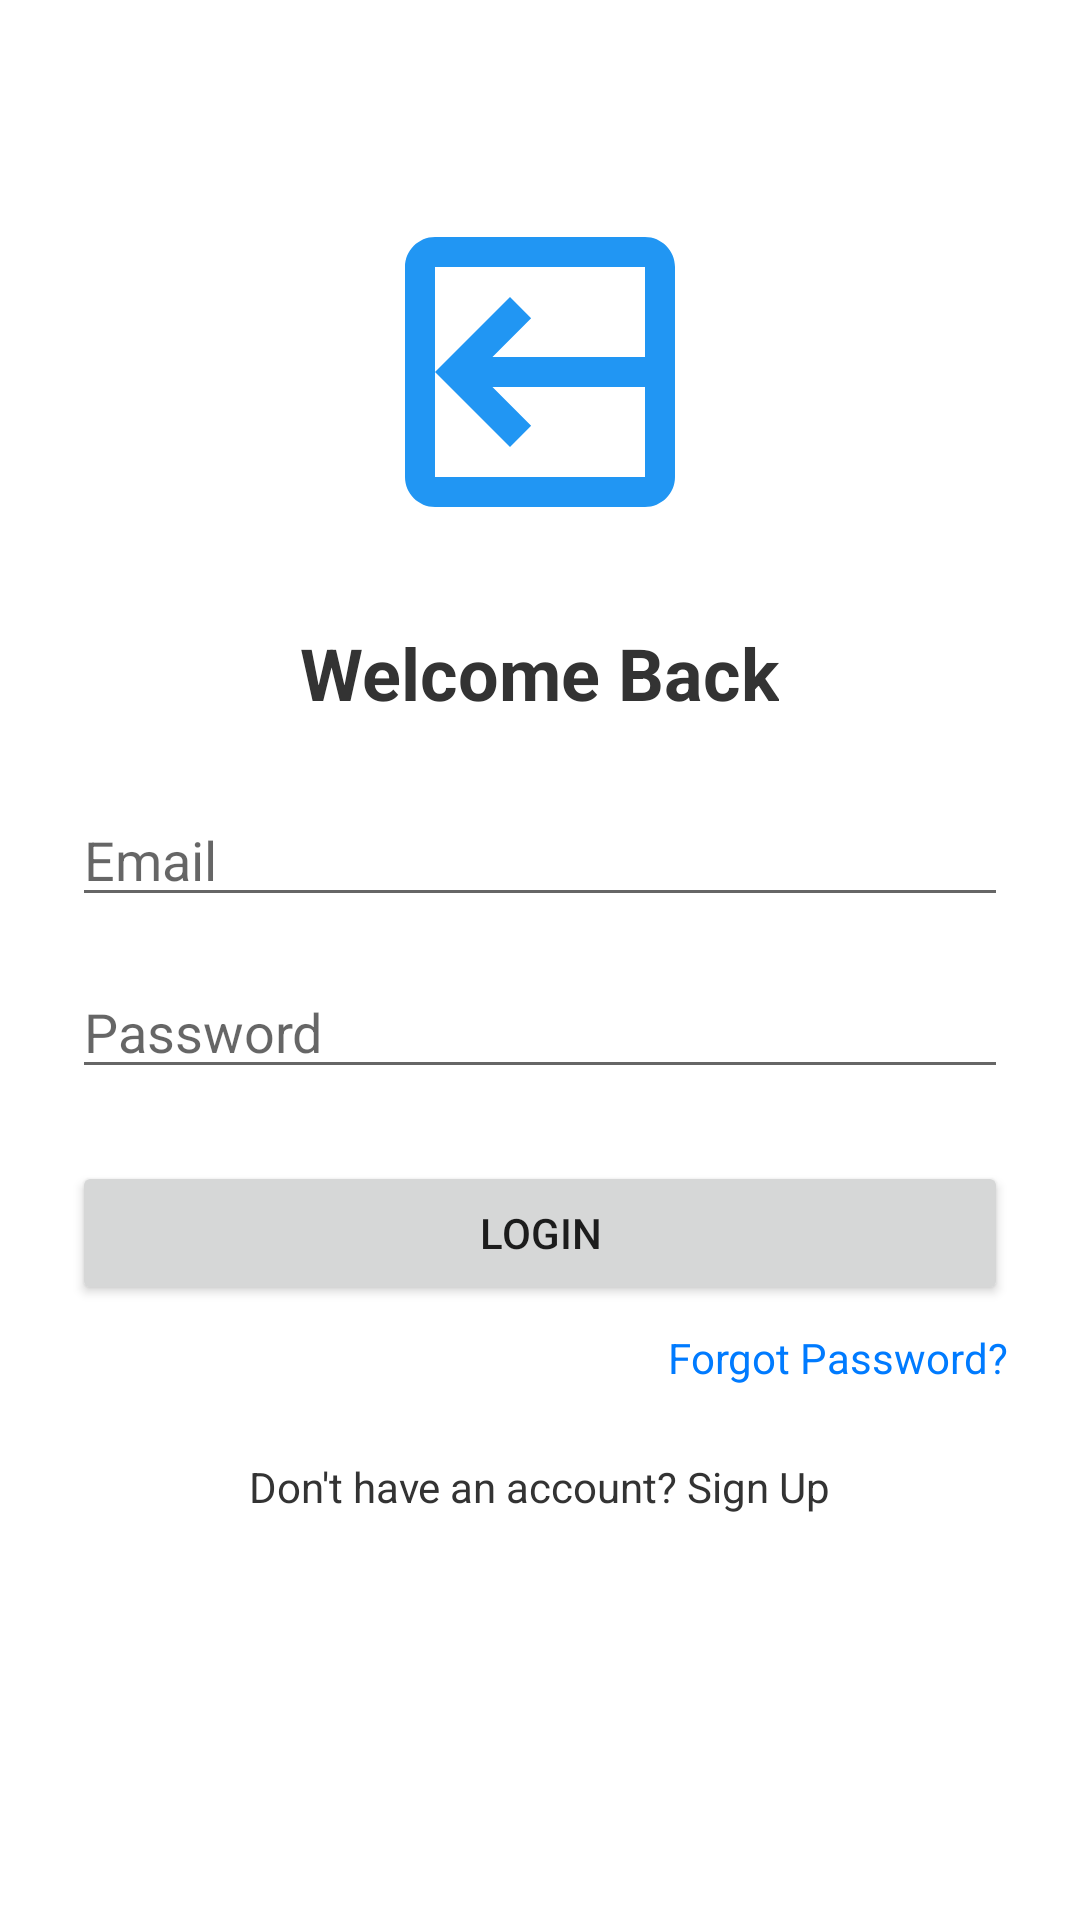

Locate icon controls on the screen. Image size 1080 x 1920, boxes as (x1, y1, x2, y2).
login: (405, 237, 675, 507)
